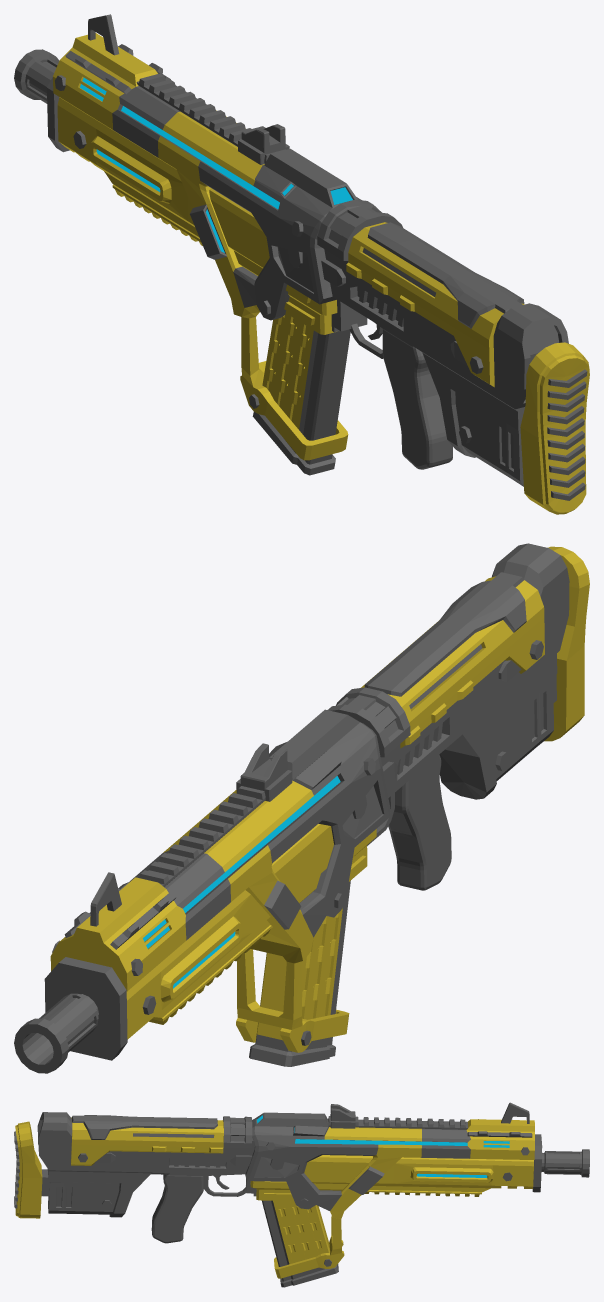
File: remake_474.glb
3 renders of one model, top to bottom at view 1: azimuth 30°, elevation 25°; view 2: azimuth 150°, elevation 25°; view 3: azimuth 270°, elevation 25°, orthographic. The views are drawn at different scales.
Parts seen in each view (by area): view 1: remake_474; view 2: remake_474; view 3: remake_474.
Boxes of the visible parts, x1,y1,x2,y2 form: remake_474: [14, 14, 589, 514]; remake_474: [14, 543, 589, 1073]; remake_474: [14, 1102, 589, 1287].
Size of the model in its own units: 0.1505 by 0.488 by 1.44.
